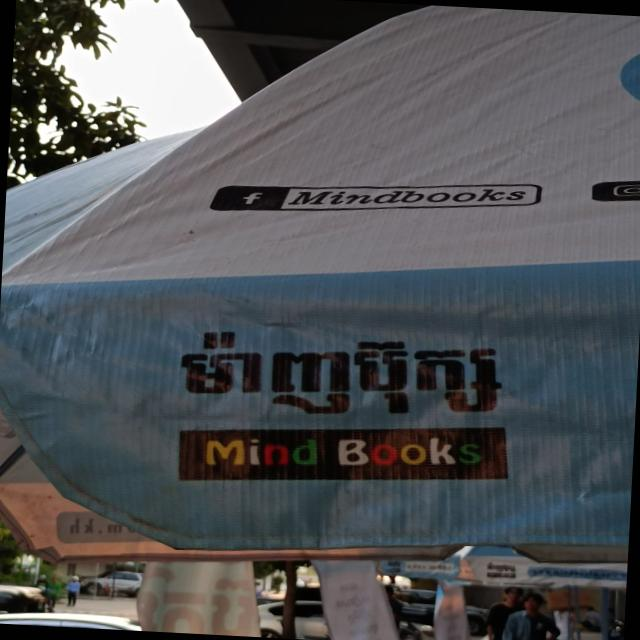Yolov11kh: (167, 317, 511, 423)
